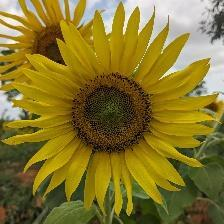sunflower: (53, 48, 195, 198)
